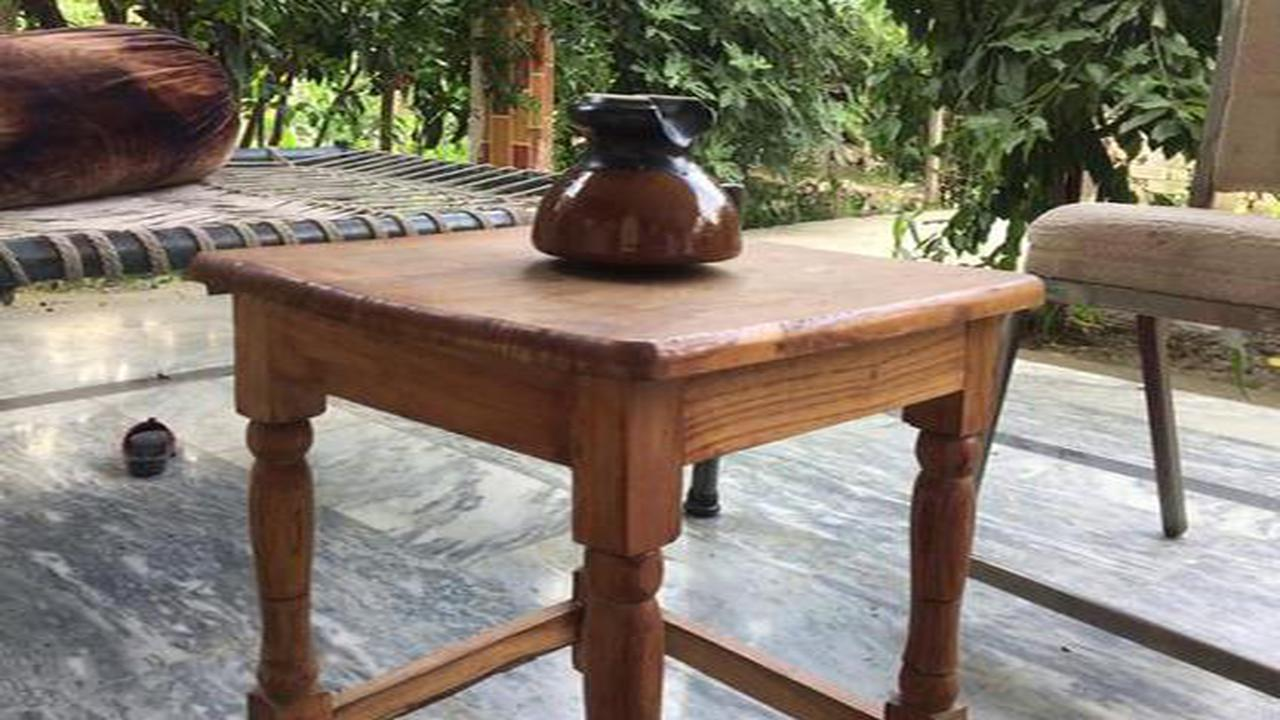insulator_pin: (511, 78, 776, 279)
